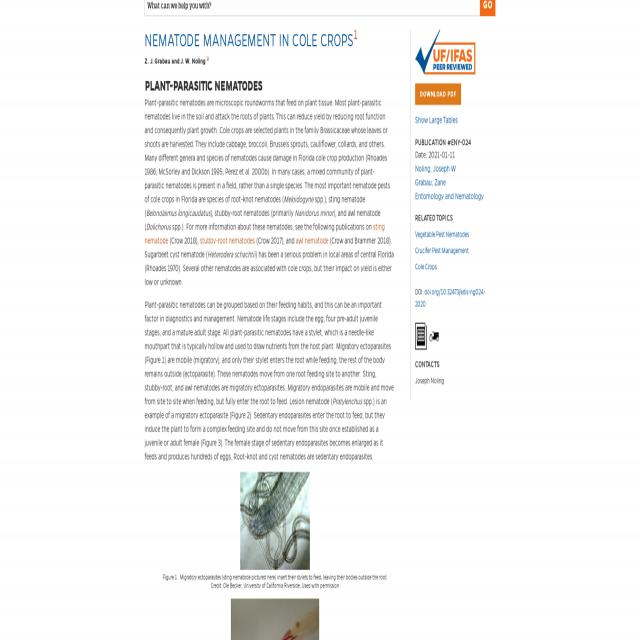button: (240, 472, 310, 570), (230, 598, 319, 640), (415, 30, 475, 74), (415, 83, 461, 105), (415, 322, 427, 350), (428, 322, 440, 350), (480, 0, 496, 16)
field: (145, 0, 479, 16)
